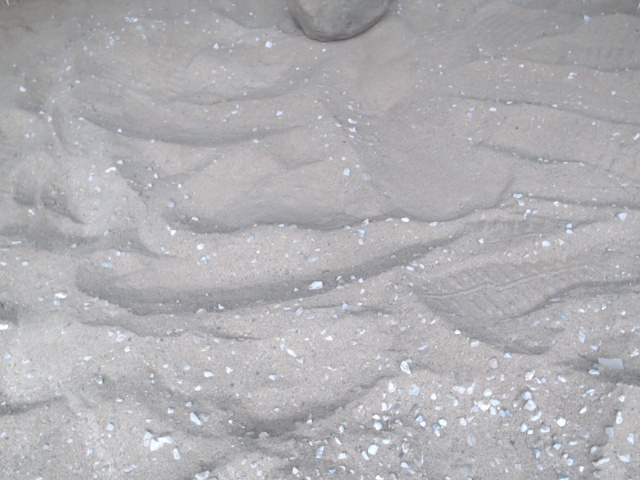rock: (277, 1, 400, 48)
